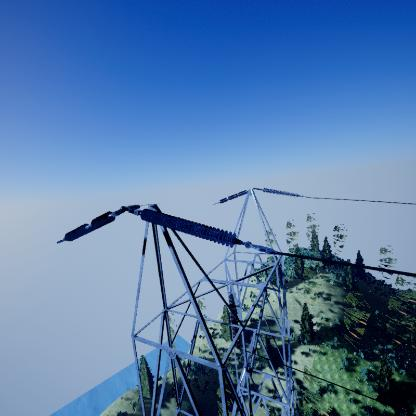insulator: (139, 208, 239, 247), (62, 210, 116, 242), (260, 184, 305, 200), (214, 187, 250, 204)
